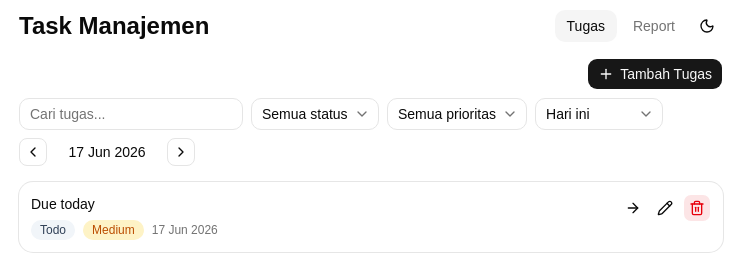
HomePage › moves between days with next and previous
The image size is (741, 270).
Click the button named "Berikutnya" at (181,152), box [167,138,195,166]
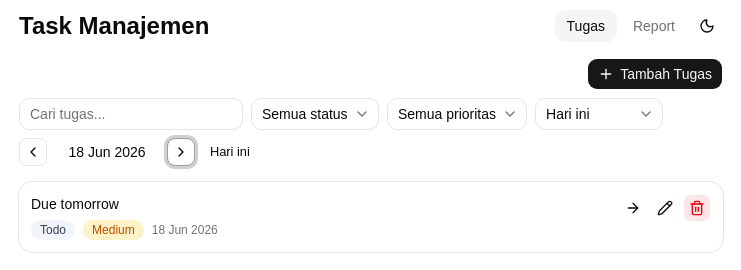
Now the text "Due tomorrow" is shown, box [31,196,119,212]
Now the text "Due today" is gone
Click the button named "Sebelumnya" at (33,152), box [19,138,47,166]
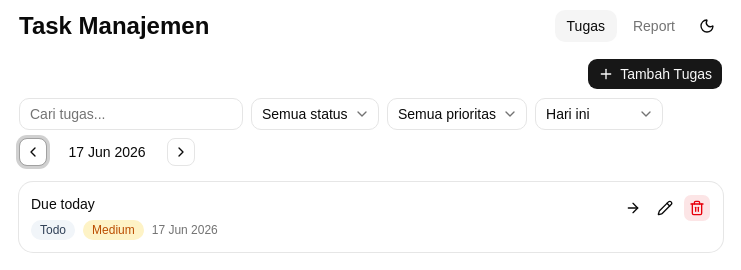
Now the text "Due today" is shown, box [31,196,95,212]
